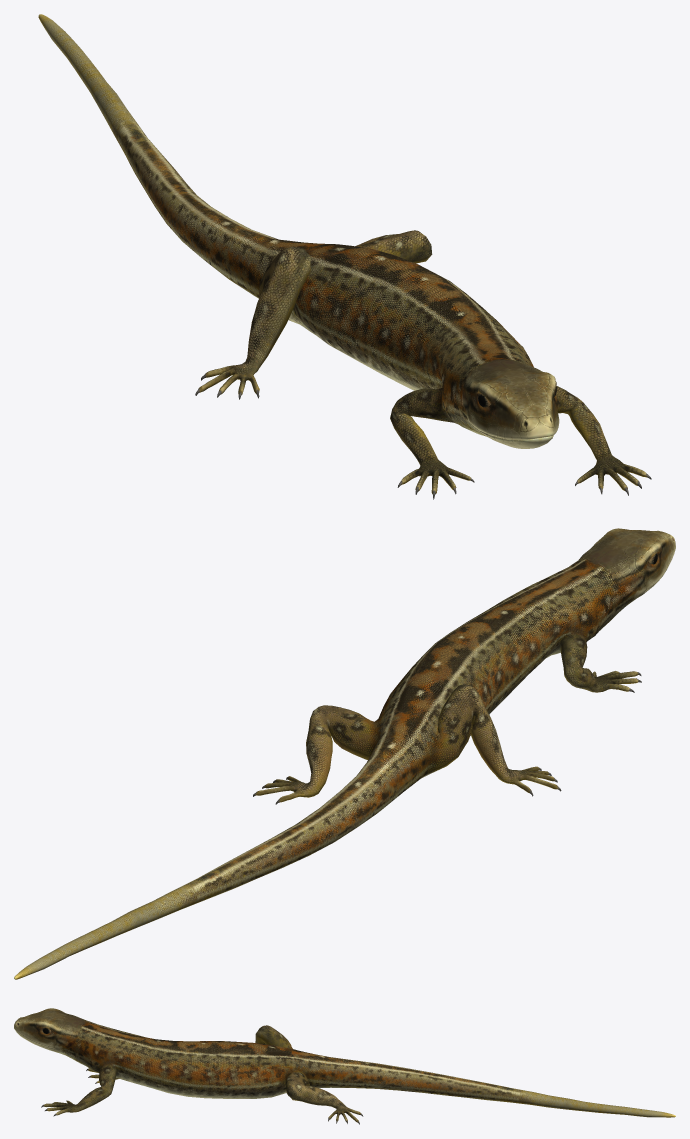
Rendered from Standing129.obj.
The picture shows the model from 3 angles, top to bottom: view 1: azimuth 30°, elevation 25°; view 2: azimuth 150°, elevation 25°; view 3: azimuth 270°, elevation 25°; orthographic projection. The views are drawn at different scales.
Visible parts, largest first — view 1: Lizard; view 2: Lizard; view 3: Lizard.
Part boxes in pixels (<box>): Lizard: <box>38,14,651,499</box>; Lizard: <box>14,528,675,979</box>; Lizard: <box>14,1008,675,1124</box>.
Bounding box in the file's own units: 25.34 × 12.04 × 103.
